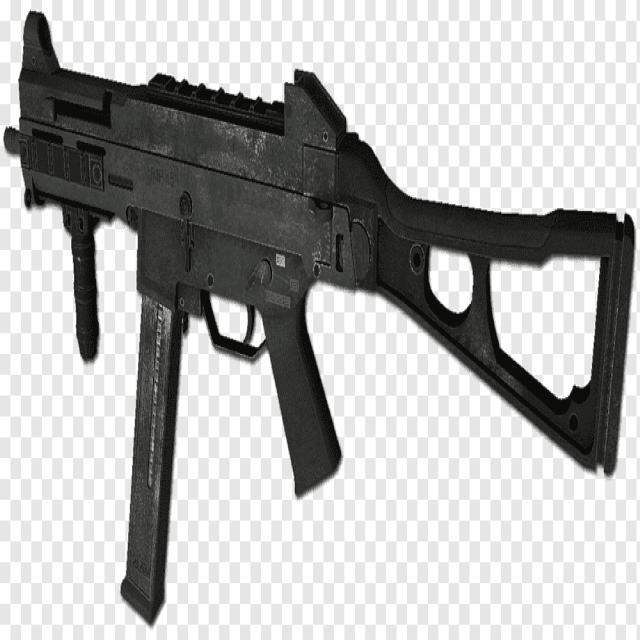SMG: (5, 12, 640, 628)
